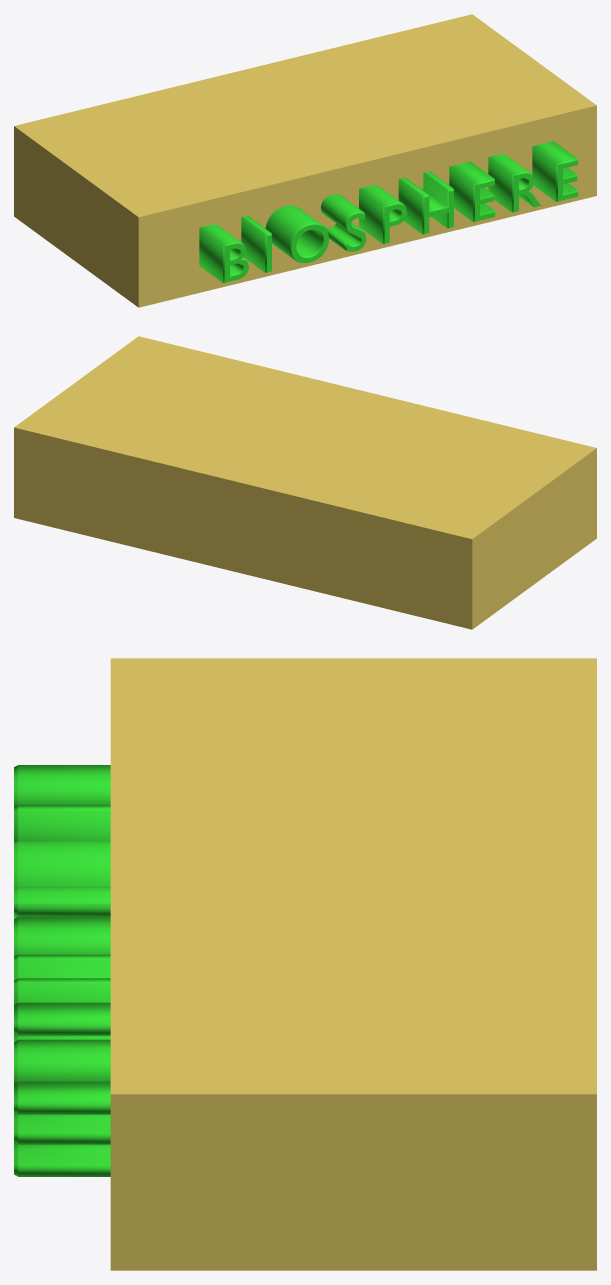
File: biosphere.gltf
3 renders of one model, top to bottom at view 1: azimuth 30°, elevation 25°; view 2: azimuth 150°, elevation 25°; view 3: azimuth 270°, elevation 25°, orthographic. The views are drawn at different scales.
Visible parts, largest first — view 1: Cube.009, CEELS.009; view 2: Cube.009; view 3: Cube.009, CEELS.009.
Part boxes in pixels (x1,y1,x2,y2): Cube.009: [14, 14, 596, 307]; CEELS.009: [199, 141, 578, 282]; Cube.009: [14, 336, 596, 629]; Cube.009: [110, 658, 596, 1270]; CEELS.009: [14, 765, 110, 1176].
Bounding box in the file's own units: 1.31 × 0.2462 × 0.7375.
